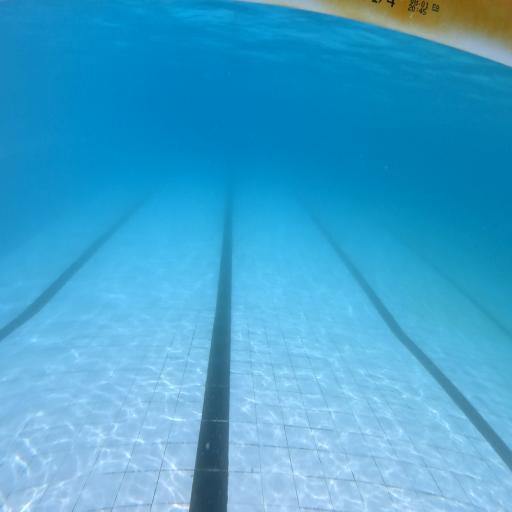upper_gate: (238, 0, 512, 69)
